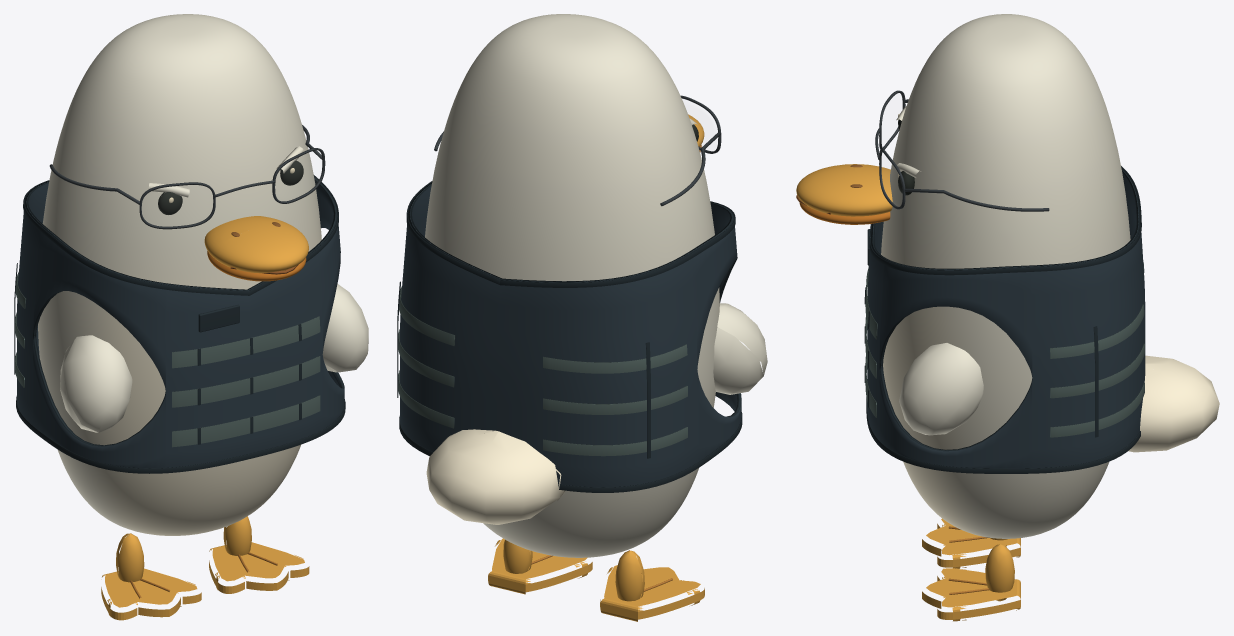
File: goose-face-glasses-character.glb
3 renders of one model, left to right at view 1: azimuth 30°, elevation 25°; view 2: azimuth 150°, elevation 25°; view 3: azimuth 270°, elevation 25°, orthographic. The views are drawn at different scales.
Visible parts, largest first — view 1: goose_torso_mesh, goose_vest_refined_mesh, goose_leftArm_mesh, goose_beak_mesh, goose_leftFoot_mesh, goose_rightFoot_mesh, goose_rightArm_mesh, goose_face_glasses_mesh; view 2: goose_torso_mesh, goose_vest_refined_mesh, goose_tail_mesh, goose_leftFoot_mesh, goose_leftArm_mesh, goose_rightFoot_mesh, goose_face_glasses_mesh; view 3: goose_torso_mesh, goose_vest_refined_mesh, goose_rightArm_mesh, goose_tail_mesh, goose_beak_mesh, goose_rightFoot_mesh, goose_leftFoot_mesh, goose_face_glasses_mesh.
Boxes of the visible parts, x1,y1,x2,y2 form: goose_torso_mesh: [38, 14, 321, 535]; goose_vest_refined_mesh: [14, 175, 345, 473]; goose_leftArm_mesh: [60, 335, 132, 432]; goose_beak_mesh: [204, 216, 308, 281]; goose_leftFoot_mesh: [101, 533, 201, 620]; goose_rightFoot_mesh: [209, 516, 309, 593]; goose_rightArm_mesh: [322, 284, 368, 372]; goose_face_glasses_mesh: [49, 125, 325, 229]; goose_torso_mesh: [425, 14, 719, 557]; goose_vest_refined_mesh: [397, 181, 742, 492]; goose_tail_mesh: [426, 429, 565, 524]; goose_leftFoot_mesh: [600, 550, 704, 621]; goose_leftArm_mesh: [713, 303, 767, 394]; goose_rightFoot_mesh: [488, 538, 592, 594]; goose_face_glasses_mesh: [434, 95, 721, 206]; goose_torso_mesh: [881, 14, 1130, 538]; goose_vest_refined_mesh: [864, 166, 1145, 473]; goose_rightArm_mesh: [899, 343, 983, 435]; goose_tail_mesh: [1128, 355, 1219, 452]; goose_beak_mesh: [796, 164, 892, 224]; goose_rightFoot_mesh: [922, 544, 1020, 621]; goose_leftFoot_mesh: [922, 518, 1020, 568]; goose_face_glasses_mesh: [875, 90, 1049, 211].
Size of the model in its own units: 1.1 by 1.94 by 1.37.
